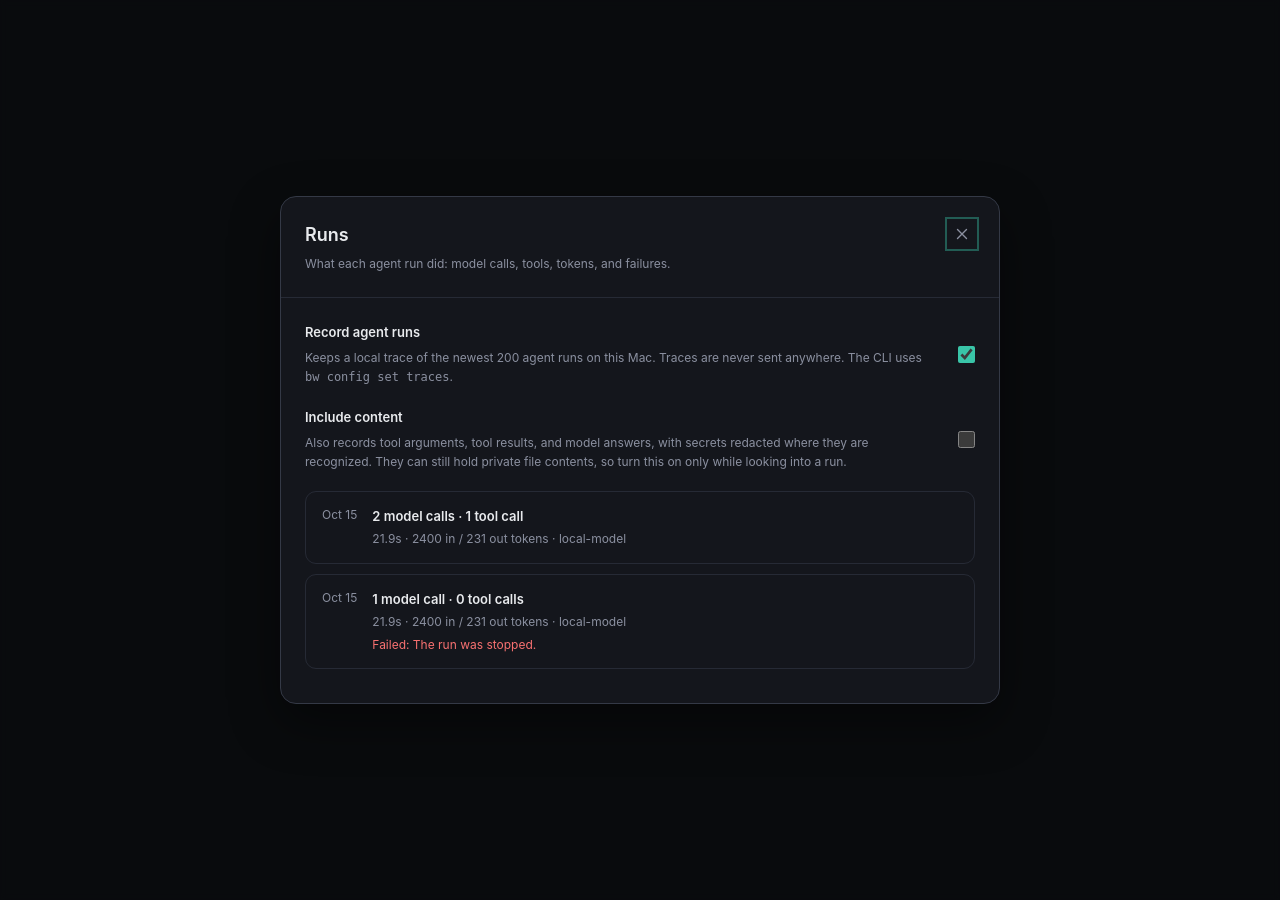
Test: runs dialog › defaults to recording without content and saves both settings
Expected: the checkbox named "Record agent runs" is enabled, [958,346,975,363]
Expected: the checkbox named "Record agent runs" is checked, [958,346,975,363]
Click the checkbox named "Include content": [966, 439] box [958,431,975,448]
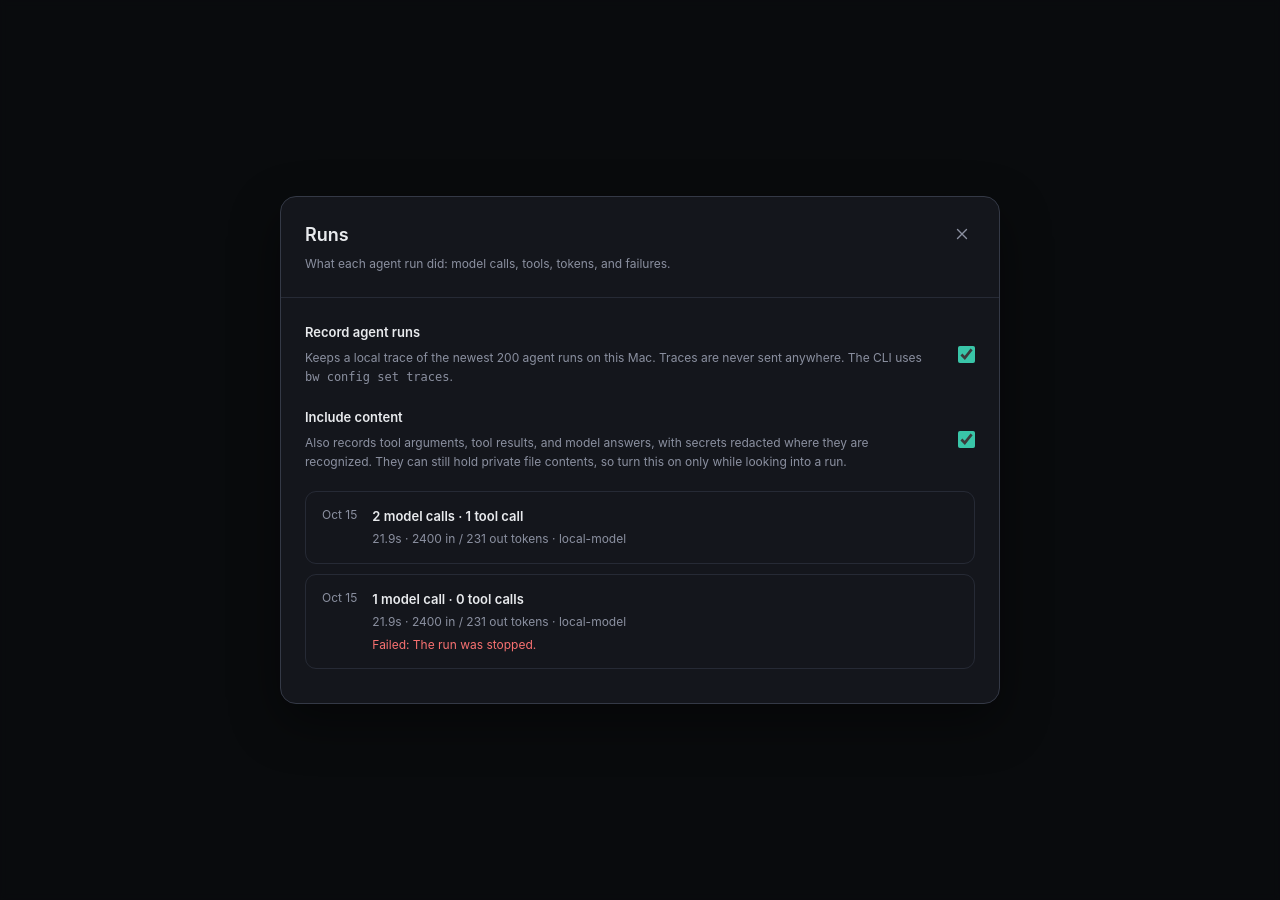
Click the checkbox named "Record agent runs": [966, 354] box [958,346,975,363]
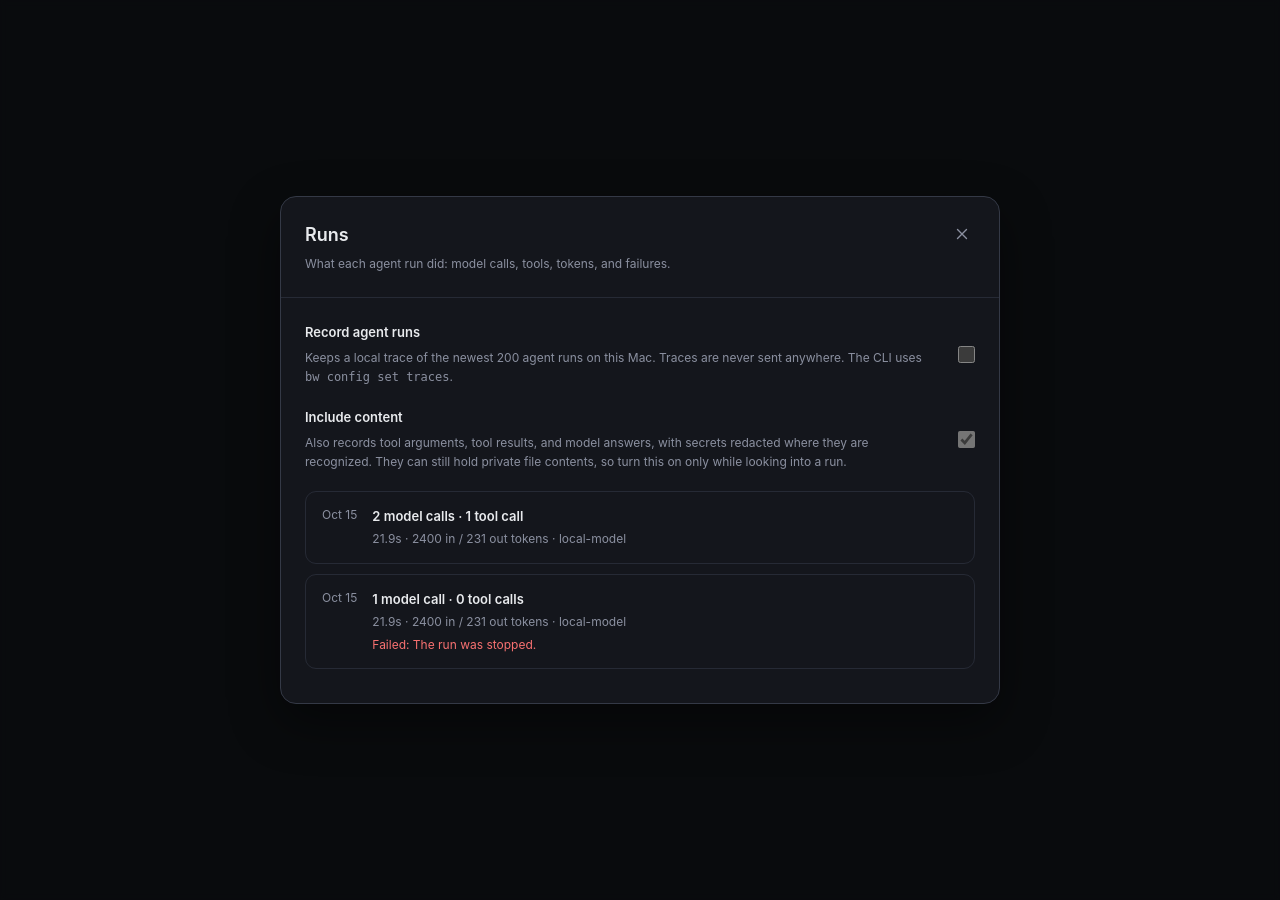
Now the checkbox named "Include content" is disabled, box [958,431,975,448]
